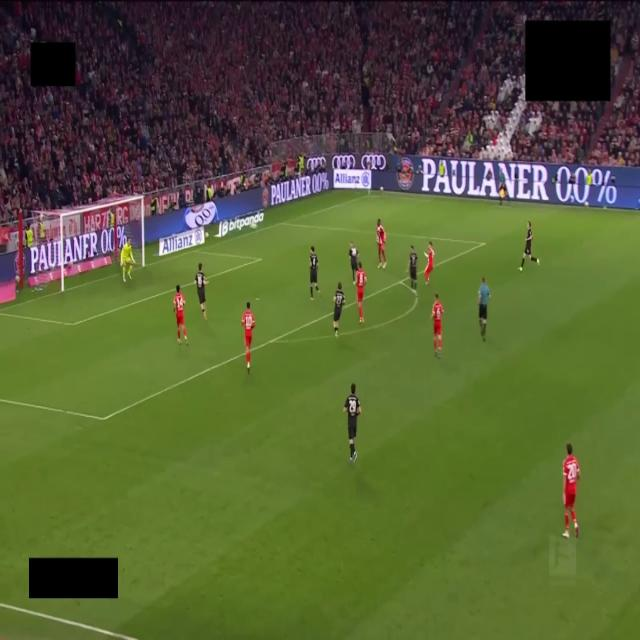player: (563, 444, 580, 537), (344, 384, 361, 462), (519, 222, 539, 271), (242, 302, 255, 373), (431, 293, 443, 357), (174, 286, 187, 343), (120, 238, 136, 282), (195, 263, 207, 319), (356, 262, 366, 323), (333, 283, 344, 337), (310, 247, 319, 300), (377, 219, 386, 268), (408, 245, 417, 293), (424, 242, 434, 284), (349, 242, 358, 284)
referee: (478, 278, 490, 340)
